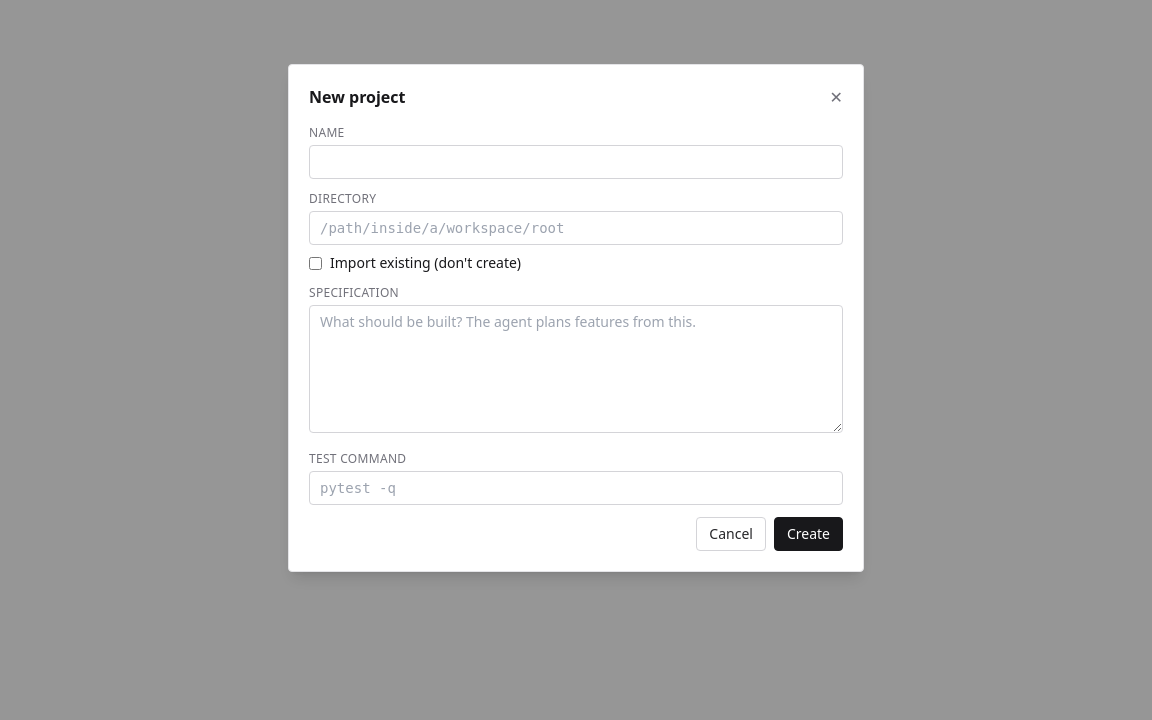
Scenario: NewProjectModal › displays an error message when the API rejects
Type "demo" into the field labelled "Name" at (576, 162), box [309, 145, 843, 179]
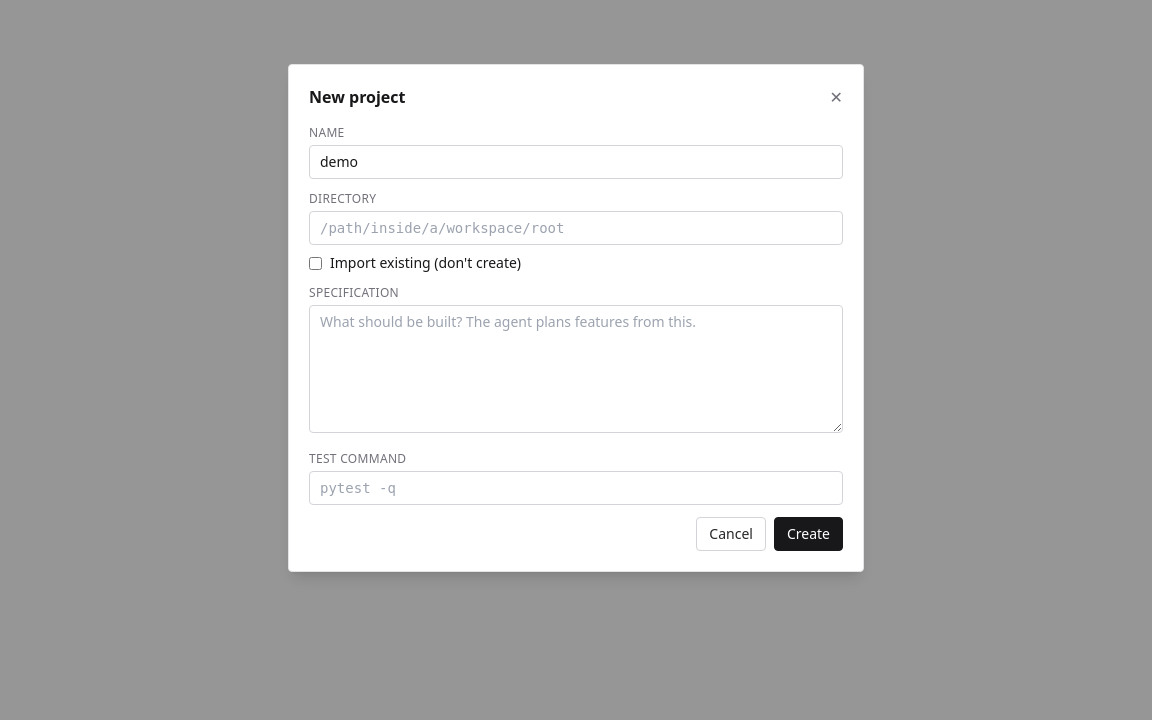
Type "/tmp/demo" into the field labelled "Directory" at (576, 228), box [309, 211, 843, 245]
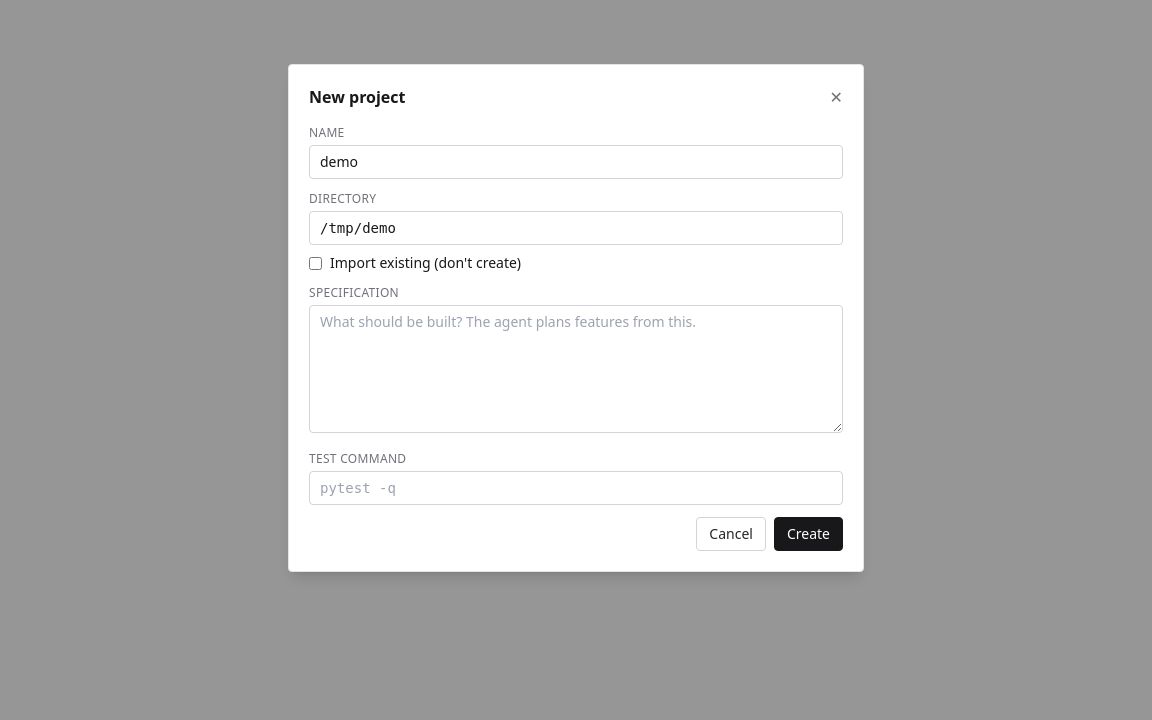
Click the button "Create" at (808, 534), box [774, 517, 843, 551]
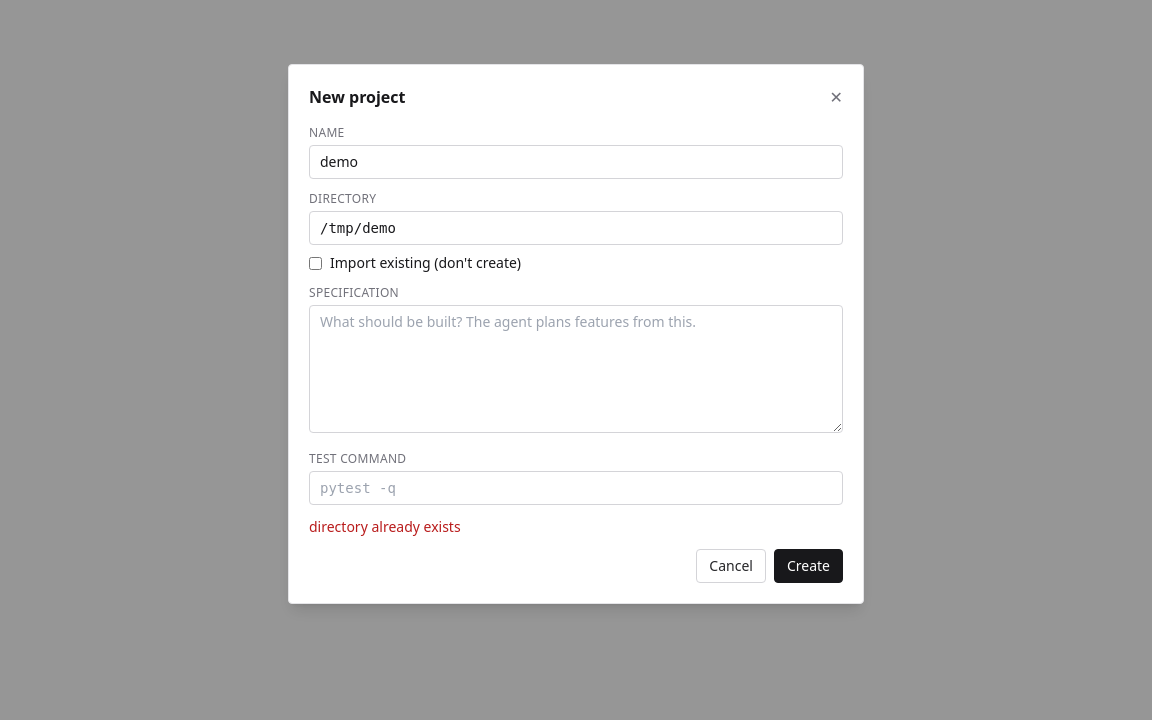
Expected: the message reads "directory already exists", [309, 517, 461, 536]
